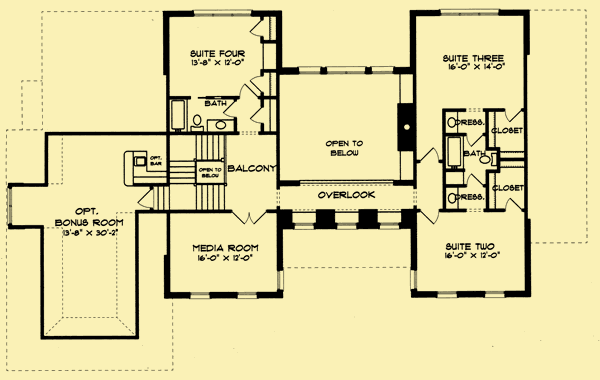bathroom has a tub, small and large sink: (168, 96, 238, 134)
small bathroom is with dual sinks, large sink, tub space and closets: (444, 108, 527, 212)
